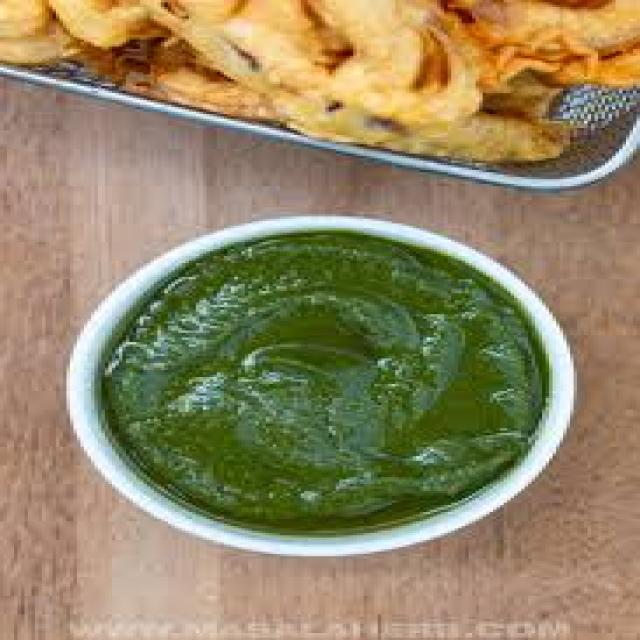GREEN CHUTNEY: (110, 242, 541, 530)
